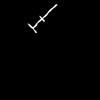double_crochet: (29, 5, 56, 32)
